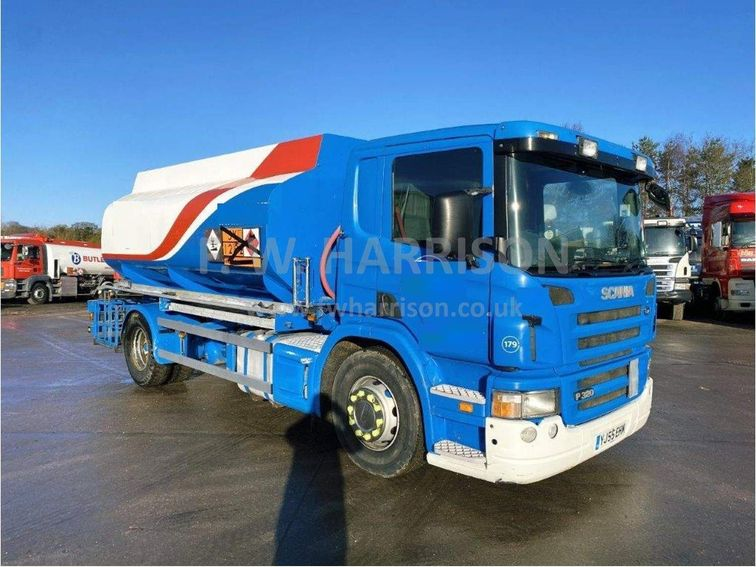Semi: (87, 120, 668, 486)
